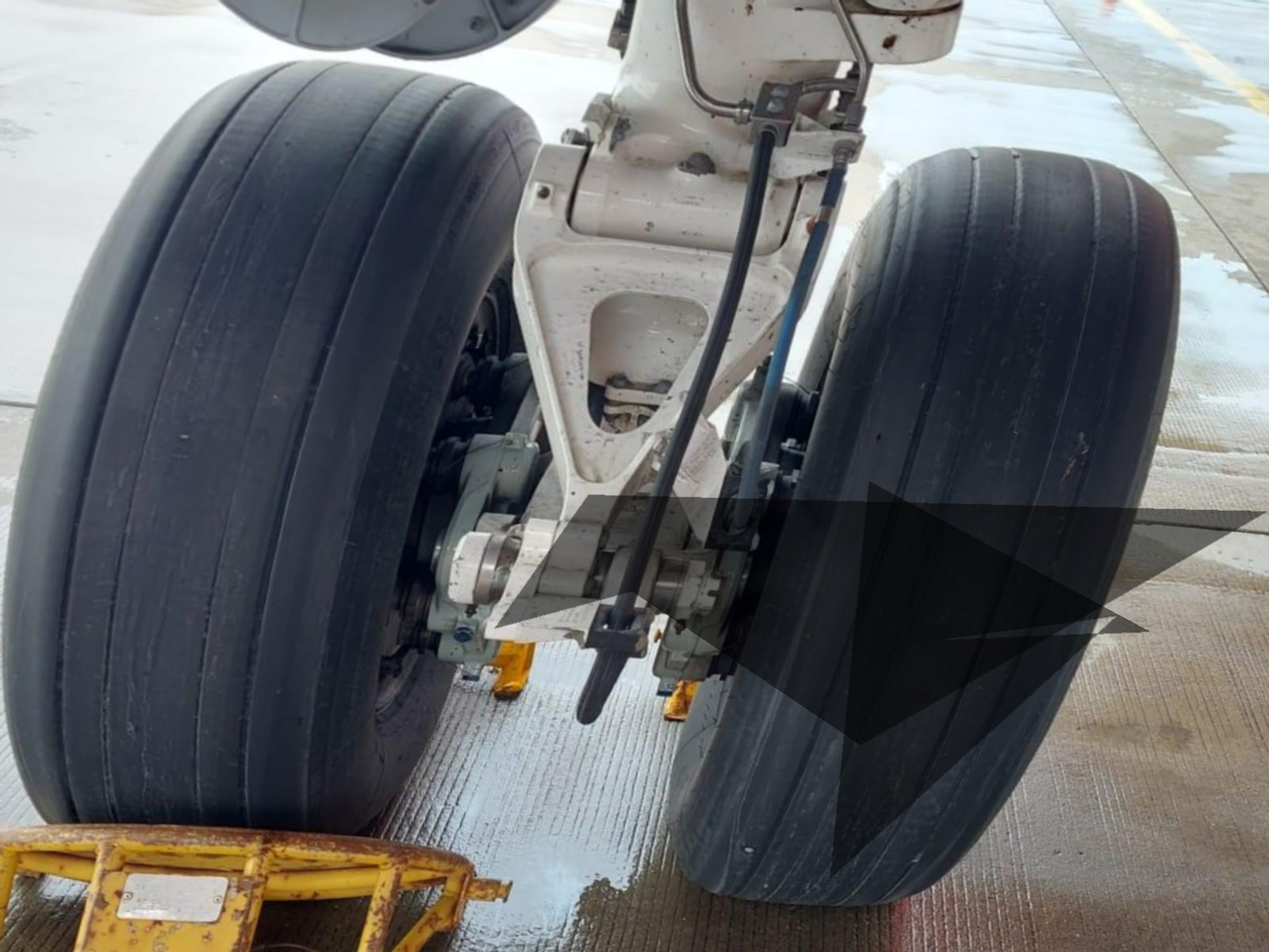chock: (0, 741, 542, 952)
wheel: (618, 93, 1269, 952), (0, 5, 618, 883)
